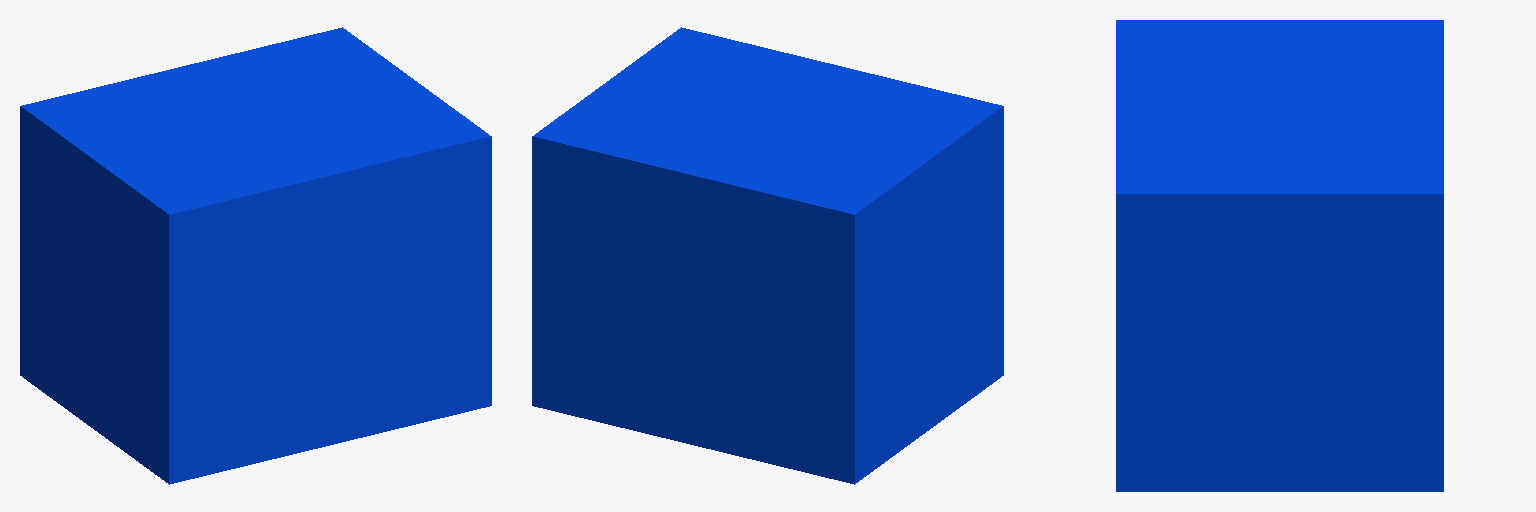
robot.urdf — room315_payload_box:
<?xml version="1.0"?>
<robot name="room315_payload_box">
  <link name="base_link">
    <inertial>
      <origin xyz="0 0 0" rpy="0 0 0"/>
      <mass value="0.2"/>
      <inertia ixx="0.0002" ixy="0" ixz="0" iyy="0.0002" iyz="0" izz="0.0002"/>
    </inertial>
    <visual>
      <origin xyz="0 0 0" rpy="0 0 0"/>
      <geometry>
        <box size="0.10 0.08 0.08"/>
      </geometry>
      <material name="payload_blue">
        <color rgba="0.05 0.35 0.95 1"/>
      </material>
    </visual>
    <collision>
      <origin xyz="0 0 0" rpy="0 0 0"/>
      <geometry>
        <box size="0.10 0.08 0.08"/>
      </geometry>
    </collision>
  </link>
</robot>

--- Render facts (derived) ---
3 views of the same robot in one strip: view 1: azimuth 30°, elevation 25°; view 2: azimuth 150°, elevation 25°; view 3: azimuth 270°, elevation 25° (orthographic).
Robot: room315_payload_box — 1 links, 0 joints (none); root link base_link; default pose: every joint at zero.
Links seen in each view (by area): view 1: base_link; view 2: base_link; view 3: base_link.
Boxes of the visible links, x1,y1,x2,y2 form: base_link: [20, 27, 491, 484]; base_link: [532, 27, 1003, 484]; base_link: [1116, 20, 1443, 491].
Size in the robot's own frame: 0.1 by 0.08 by 0.08 metres.
Geometry: primitives only (box / cylinder / sphere), no mesh files.
